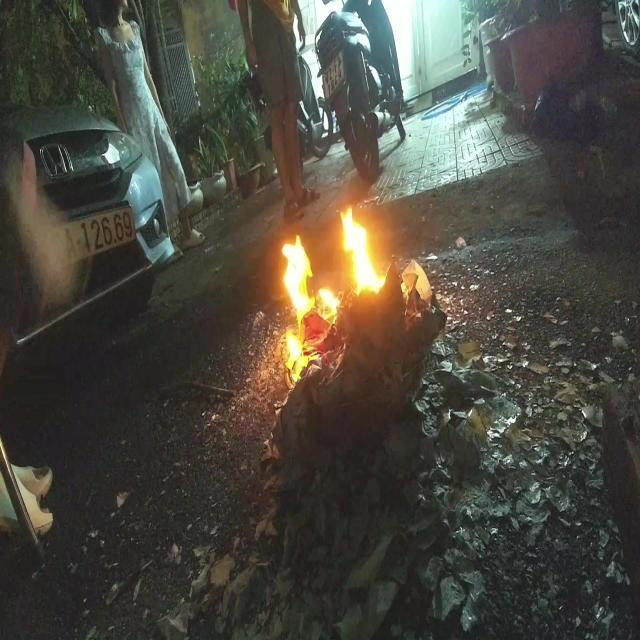Fire: (275, 234, 339, 380)
